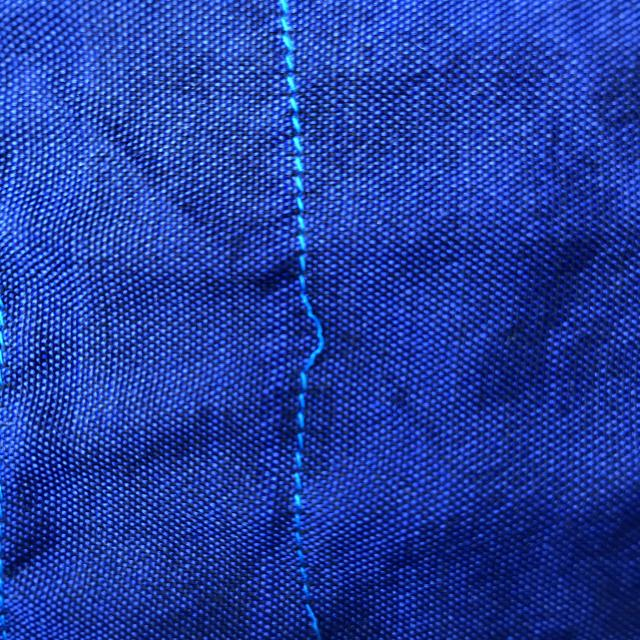skip: (272, 254, 349, 388)
